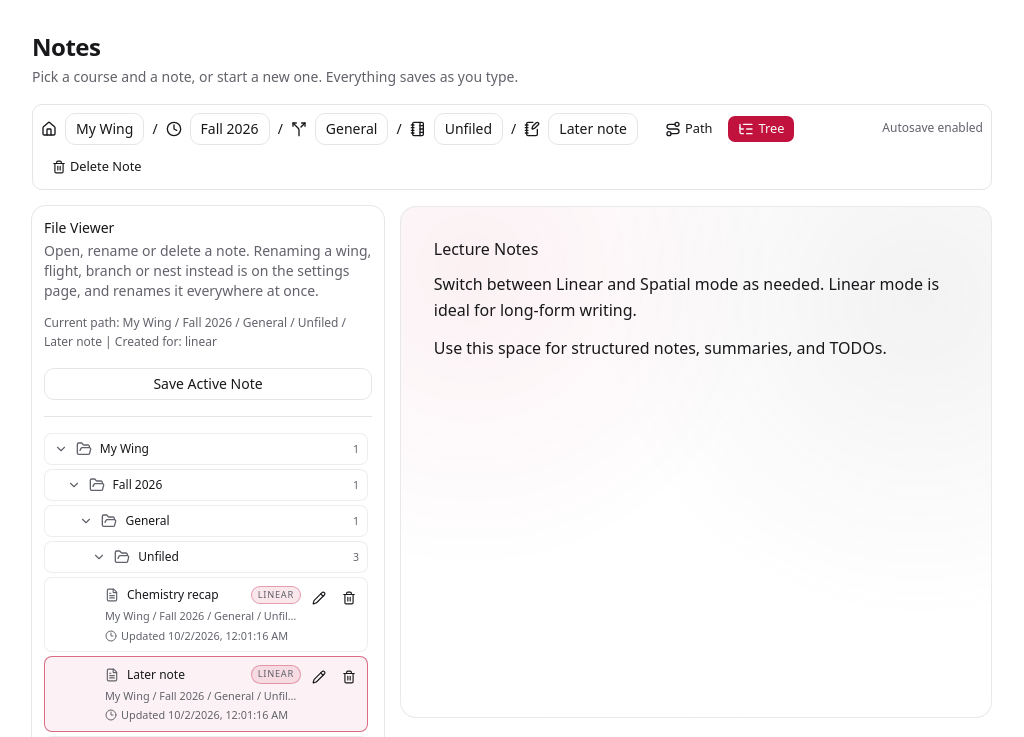
it: NotesPage › lists a saved note in the tree and opens it from there
The image size is (1024, 737).
expect the button "My Wing" is shown: met, box [65,113,144,145]
Step 1. Click the button "Tree" → (761, 129), box [727,115,795,143]
(page scrolled)
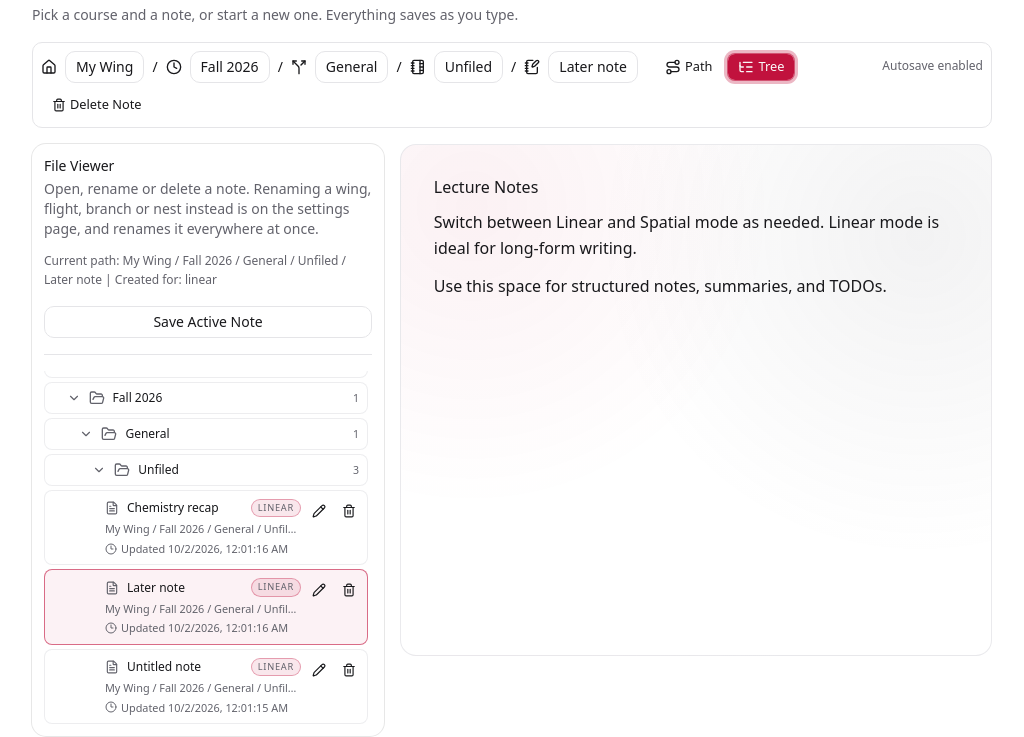
expect the list named "Saved notes" is shown: met, box [44,371,372,724]
expect the text "Untitled note" is shown: met, box [127,659,201,675]
Note: Opening from the tree lands on the same note the path bar was already showing.
Step 2. Click the button with aria-label "Open Untitled note" → (203, 686), box [105,650,301,723]
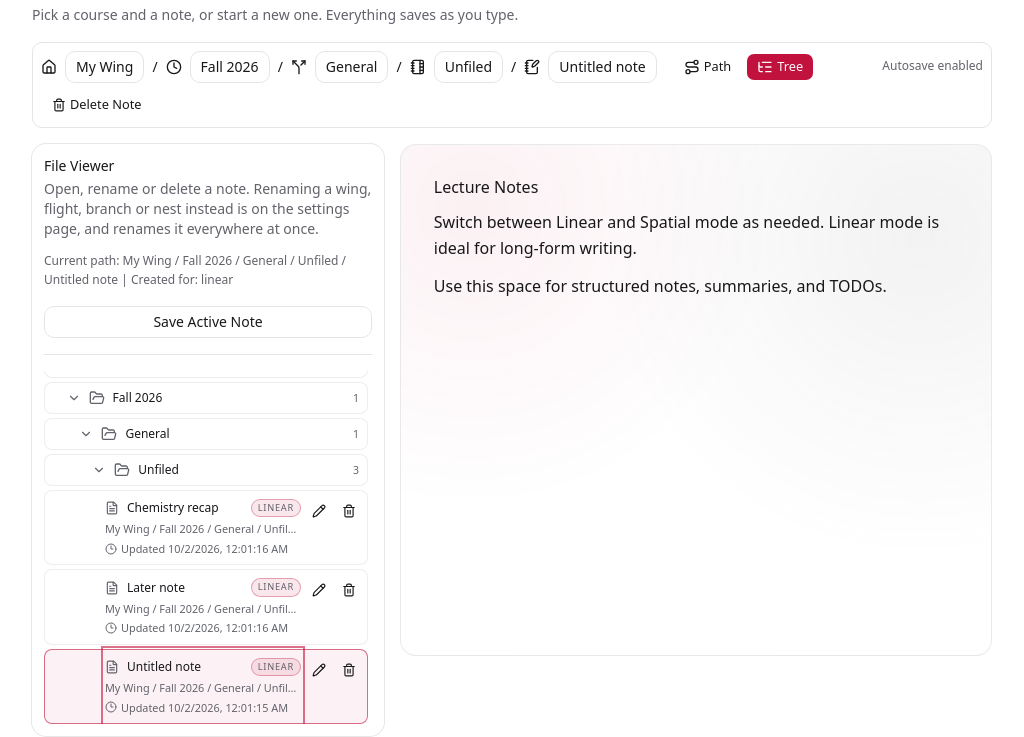
expect the button "Untitled note" is shown: met, box [548,51,657,83]
